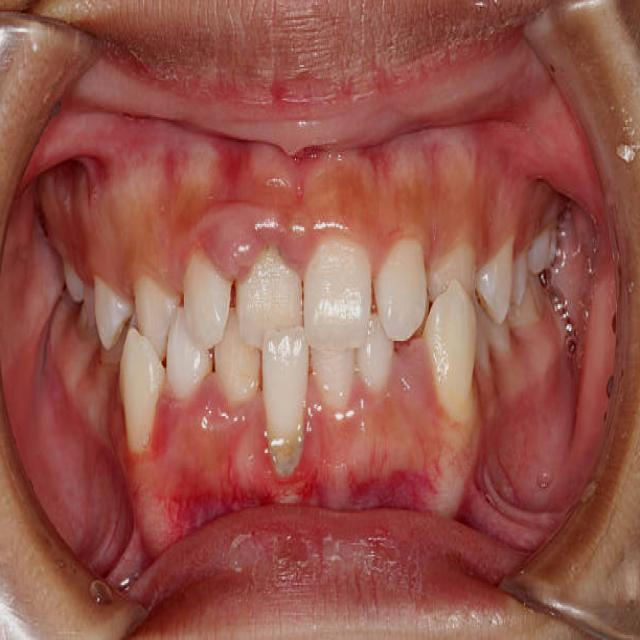redness: (246, 471, 331, 512), (149, 396, 181, 460)
swelling: (200, 191, 346, 275)
